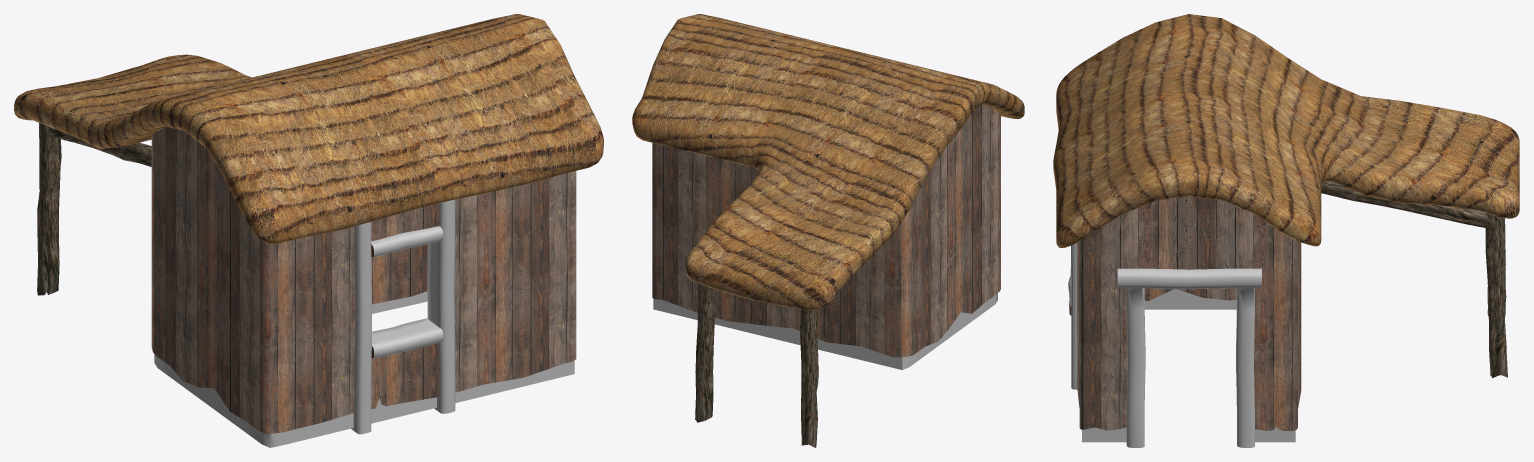
File: House2_OneMesh.fbx
3 renders of one model, left to right at view 1: azimuth 30°, elevation 25°; view 2: azimuth 150°, elevation 25°; view 3: azimuth 270°, elevation 25°, orthographic. The views are drawn at different scales.
Visible parts, largest first — view 1: Wall; view 2: Wall; view 3: Wall.
Part boxes in pixels (x1=…): Wall: x1=14, y1=14, x2=603, y2=447; Wall: x1=632, y1=14, x2=1024, y2=447; Wall: x1=1053, y1=14, x2=1519, y2=447.
Bounding box in the file's own units: 956 × 785 × 1134.
